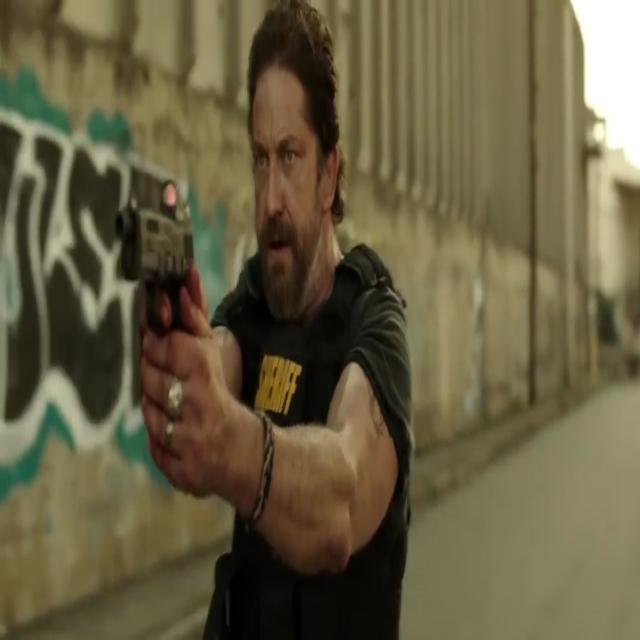Weapon: (98, 181, 200, 367)
